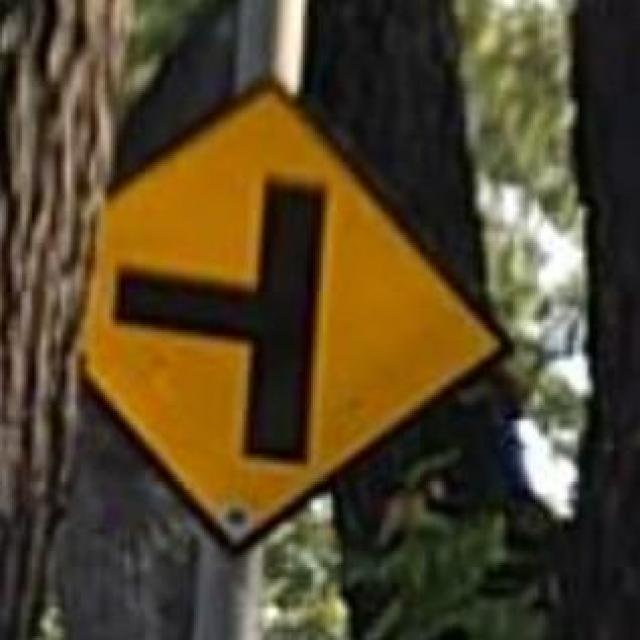traffic sign: (135, 83, 500, 522)
